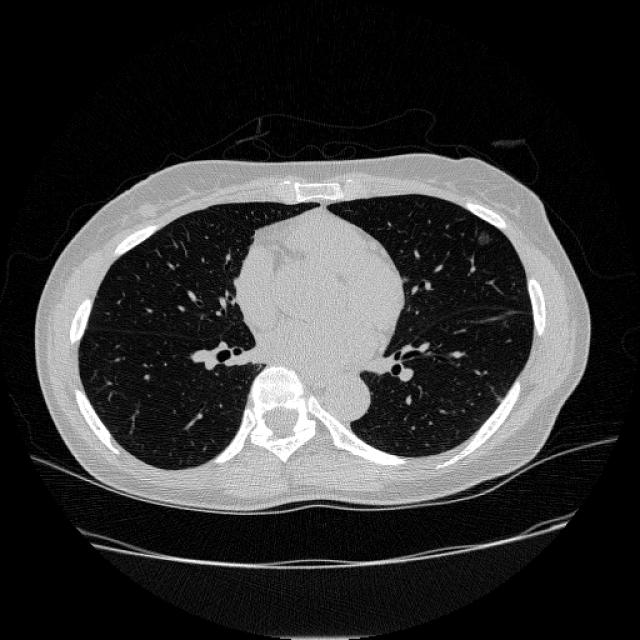nodule: (469, 224, 496, 251)
